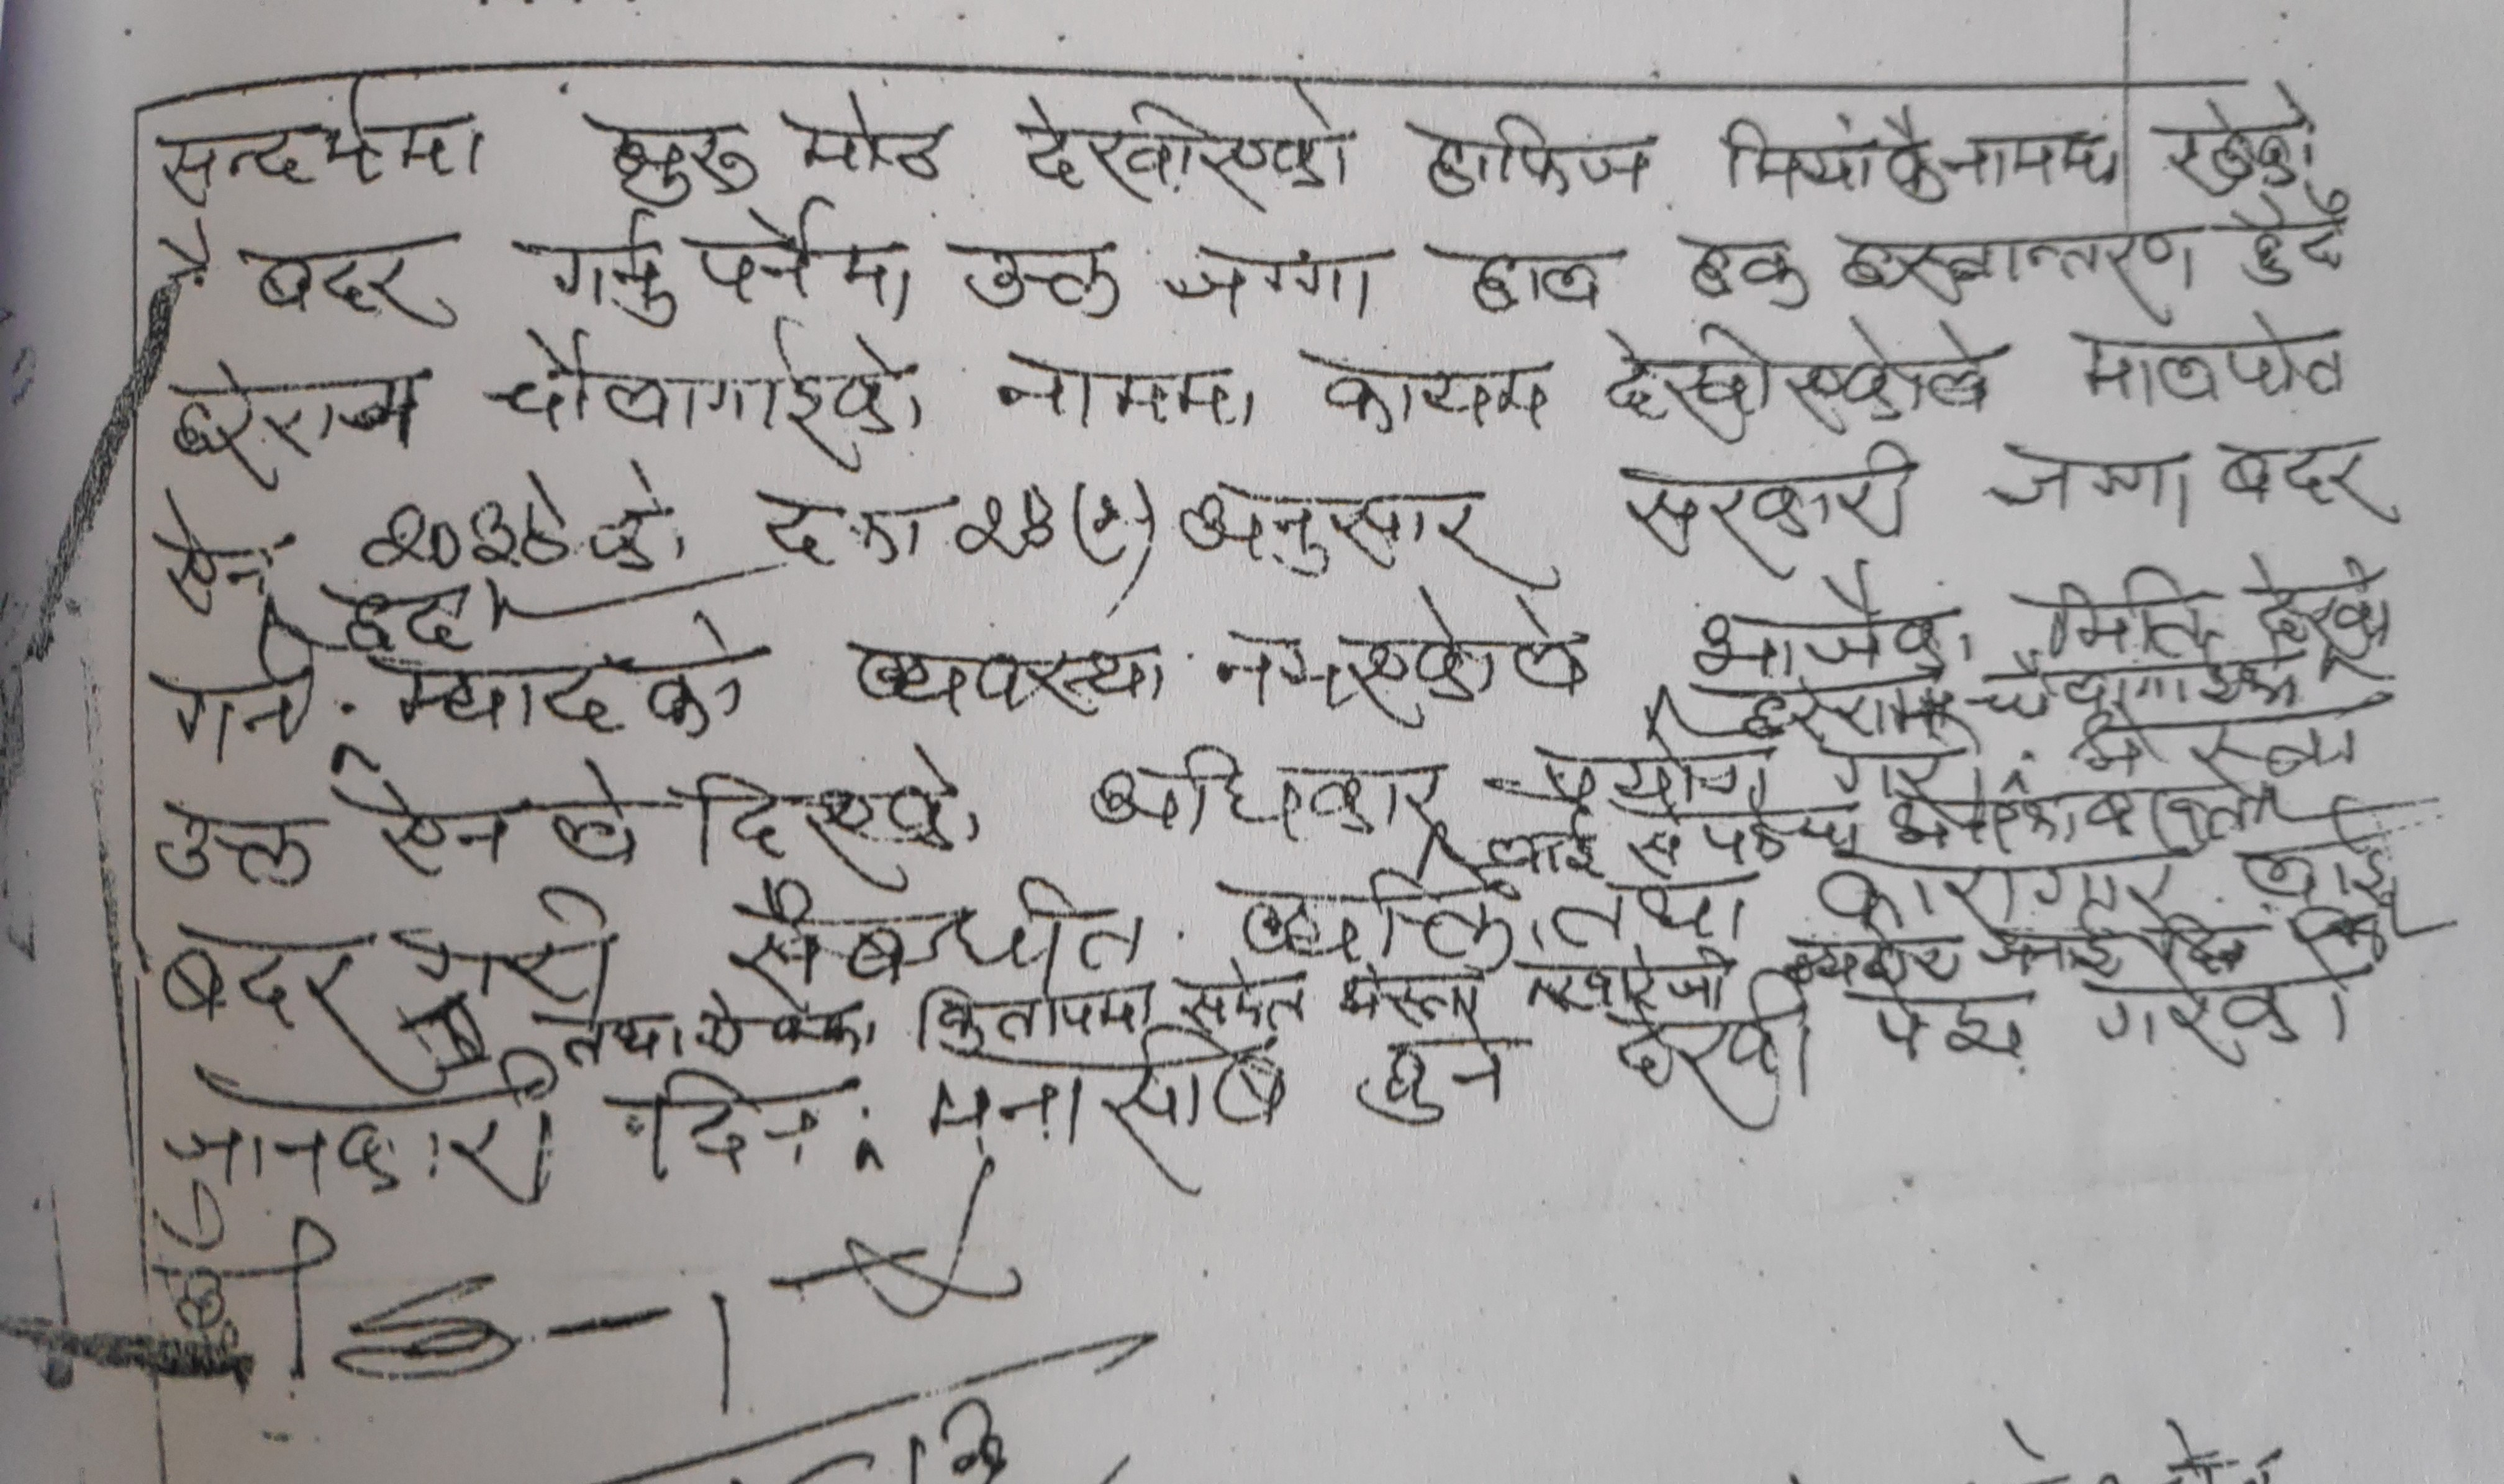text: (157, 1055, 560, 1208), (482, 330, 926, 466), (1205, 579, 1590, 726), (1596, 316, 2000, 443), (930, 1028, 1283, 1162), (1011, 85, 1355, 217), (1610, 435, 1923, 578), (1179, 470, 1525, 585), (350, 751, 647, 883), (691, 747, 984, 876), (145, 97, 489, 201), (159, 353, 428, 484), (1078, 747, 1453, 841), (352, 473, 687, 578), (1811, 837, 2188, 929), (156, 913, 380, 1065), (846, 624, 1179, 724), (1832, 216, 2205, 302), (1232, 859, 1521, 970), (2062, 302, 2357, 410), (1693, 571, 1981, 675), (398, 878, 618, 1003), (1608, 991, 1815, 1122), (2069, 965, 2352, 1058), (687, 201, 919, 314), (1407, 104, 1654, 203), (1709, 108, 1956, 207), (725, 866, 912, 995), (988, 352, 1258, 438), (626, 1065, 822, 1182), (1311, 353, 1569, 442), (246, 237, 465, 339), (2066, 707, 2371, 777), (152, 631, 315, 761), (389, 652, 626, 740), (1502, 737, 1776, 813), (2211, 431, 2409, 532), (525, 214, 687, 336), (2246, 539, 2416, 654), (583, 104, 765, 205), (1165, 238, 1384, 322), (1355, 1012, 1516, 1125), (1984, 445, 2198, 530), (2036, 565, 2212, 666), (779, 85, 954, 185), (150, 797, 316, 901), (1539, 876, 1762, 954), (2152, 85, 2318, 187), (2234, 807, 2405, 906), (755, 486, 937, 576), (1861, 980, 2041, 1071), (150, 493, 274, 618), (640, 609, 756, 738), (958, 237, 1122, 325), (1438, 242, 1613, 322), (1820, 723, 1993, 800), (2223, 196, 2359, 293), (1935, 120, 2129, 187), (1668, 237, 1817, 322), (334, 579, 486, 661), (944, 481, 1067, 560)
